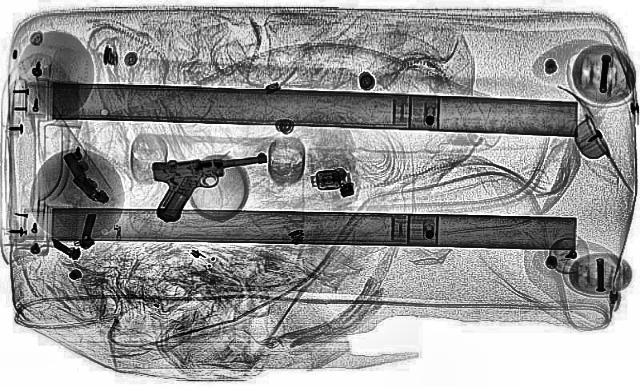Gun: (140, 154, 280, 220)
